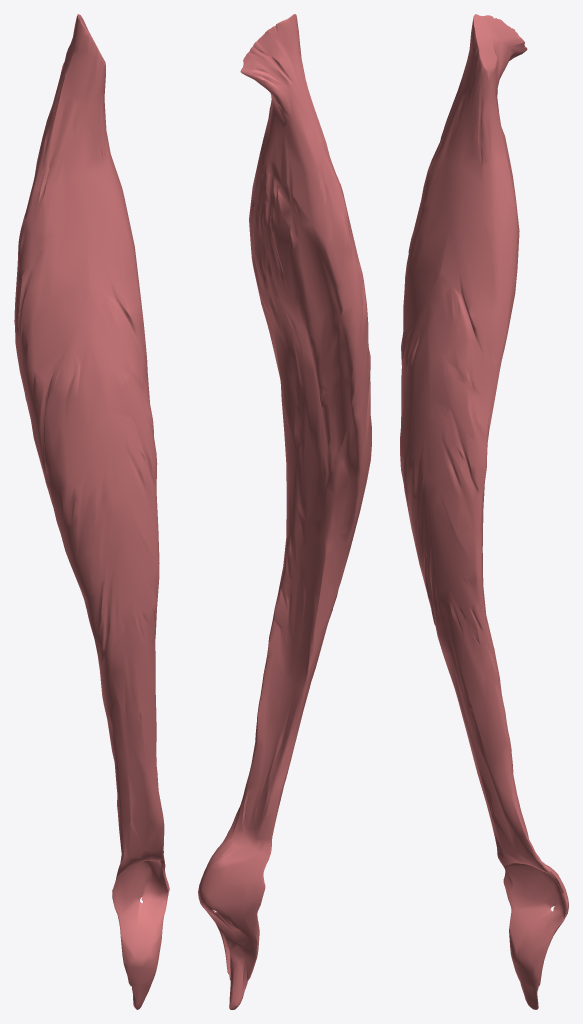
The picture shows the model from 3 angles, left to right: view 1: azimuth 30°, elevation 25°; view 2: azimuth 150°, elevation 25°; view 3: azimuth 330°, elevation 25°; orthographic projection. The views are drawn at different scales.
Visible parts, largest first — view 1: FJ1433; view 2: FJ1433; view 3: FJ1433.
Part boxes in pixels (x1,y1,x2,y2): FJ1433: [14, 14, 169, 1009]; FJ1433: [198, 14, 371, 1009]; FJ1433: [400, 14, 568, 1009].
Size of the model in its own units: 0.0911 by 0.5534 by 0.0682.
